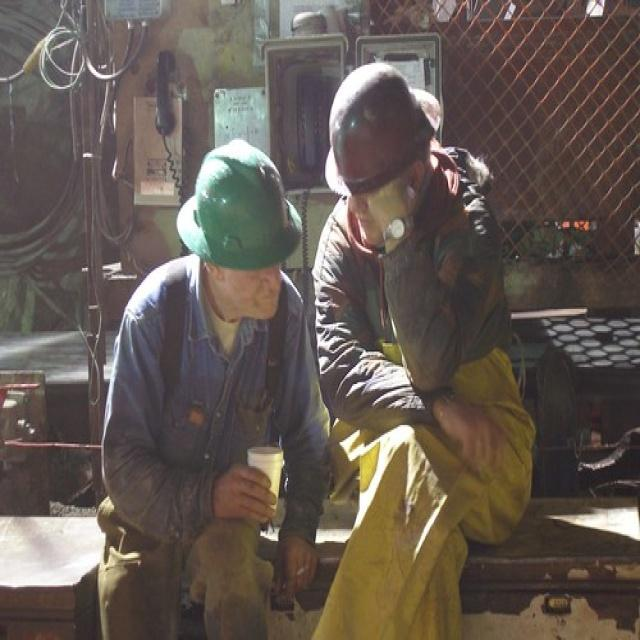helmet: (174, 181, 306, 356), (328, 73, 442, 264)
